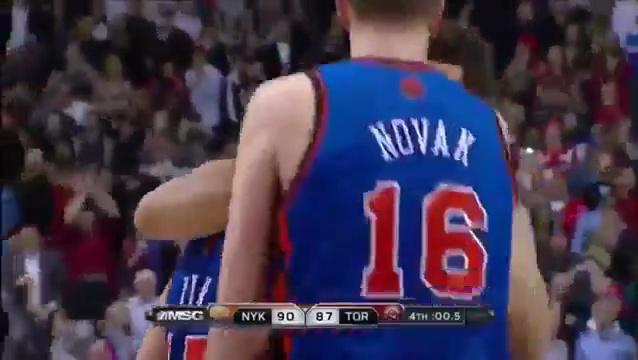Person: (216, 0, 555, 360)
